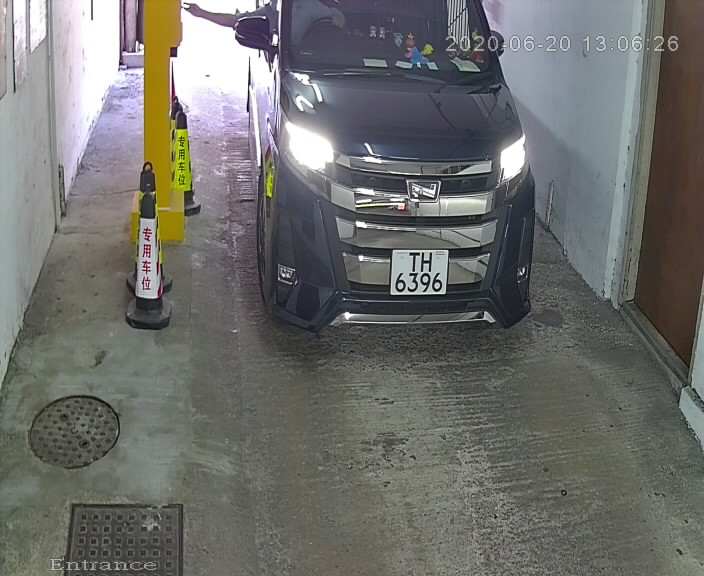privatecar: (223, 3, 549, 374)
